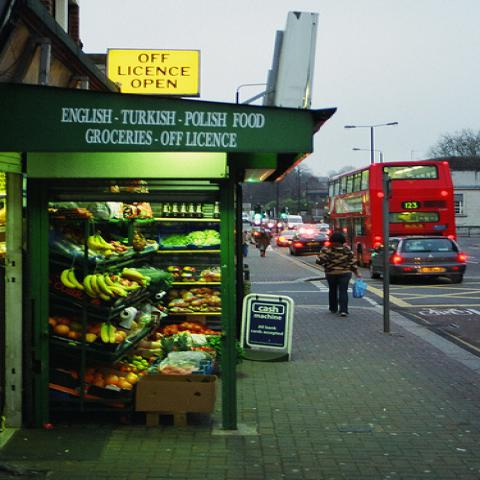bus: (327, 161, 457, 268)
car: (368, 236, 468, 284), (290, 232, 327, 255), (275, 231, 297, 246), (250, 228, 274, 241), (294, 224, 320, 234), (318, 225, 329, 238), (249, 219, 263, 226), (242, 213, 250, 223)
